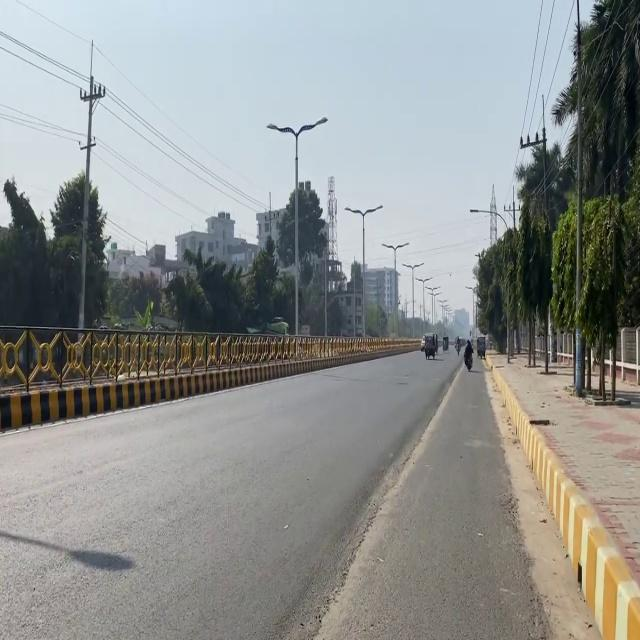Construction-barrier: (299, 426, 430, 640), (556, 474, 638, 640)
Fallen-tree: (424, 344, 436, 360)
Garbage-bin: (463, 339, 473, 370)
Light-pole: (75, 39, 106, 340)
Pole: (6, 308, 222, 428)
Pothole: (482, 350, 639, 638)
Traffic-cone: (245, 316, 289, 340)
